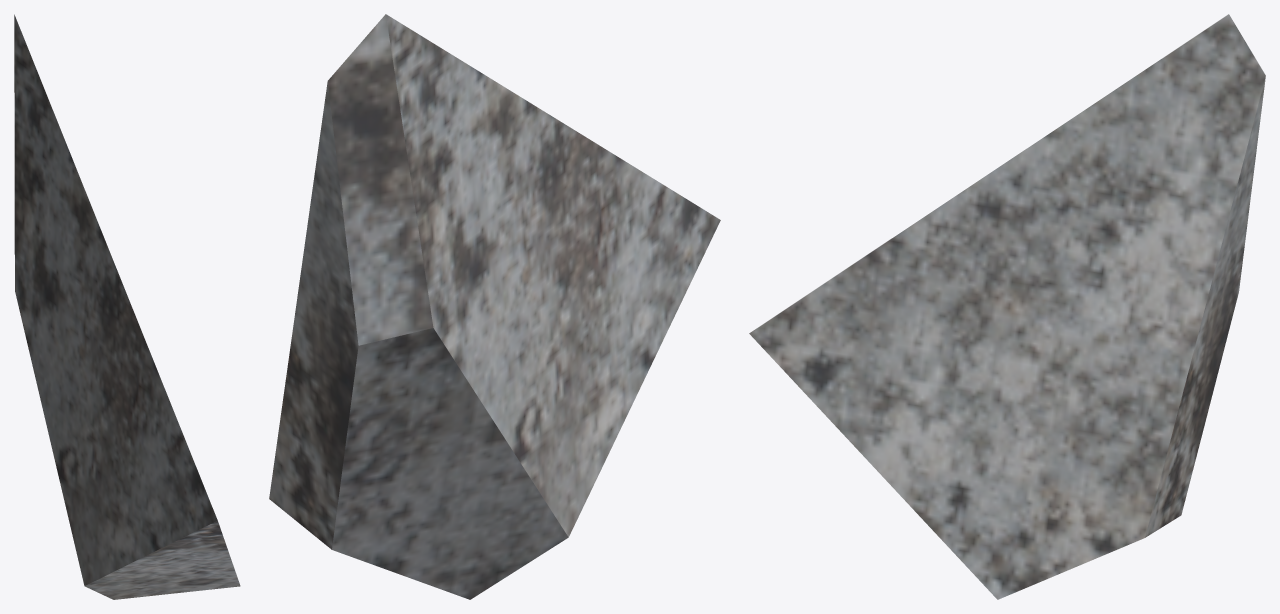
The model's file is Asteroid_Large_001_02_009_03_020.fbx.
The picture shows the model from 3 angles, left to right: view 1: azimuth 30°, elevation 25°; view 2: azimuth 150°, elevation 25°; view 3: azimuth 270°, elevation 25°; orthographic projection. The views are drawn at different scales.
Visible parts, largest first — view 1: Asteroid_Large_001_02_009_03_020; view 2: Asteroid_Large_001_02_009_03_020; view 3: Asteroid_Large_001_02_009_03_020.
Part boxes in pixels (bbox=[...]): Asteroid_Large_001_02_009_03_020: bbox=[14, 14, 240, 599]; Asteroid_Large_001_02_009_03_020: bbox=[269, 14, 720, 599]; Asteroid_Large_001_02_009_03_020: bbox=[749, 14, 1265, 599].
Size of the model in its own units: 2.22 by 6.57 by 5.68.
